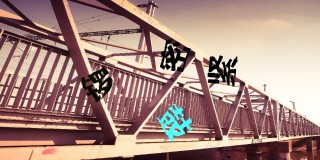密: (158, 39, 187, 72)
紧: (208, 54, 238, 87)
锣: (82, 66, 113, 102)
鼓: (156, 102, 193, 142)
